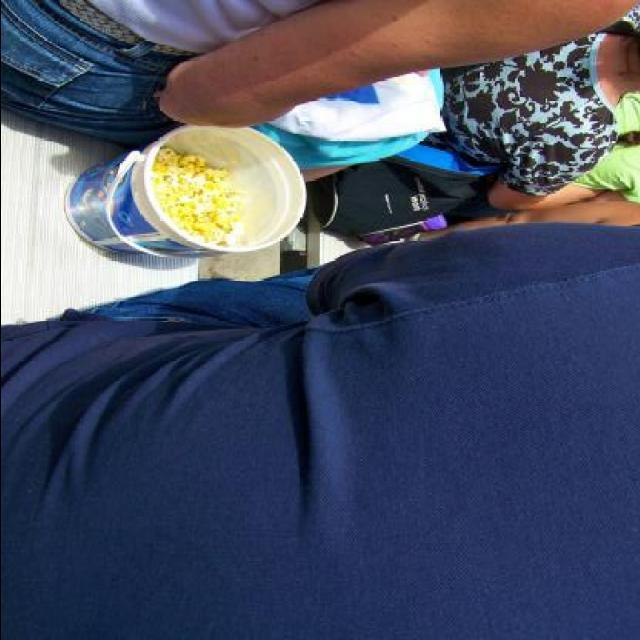Popcorn: (148, 147, 245, 245)
